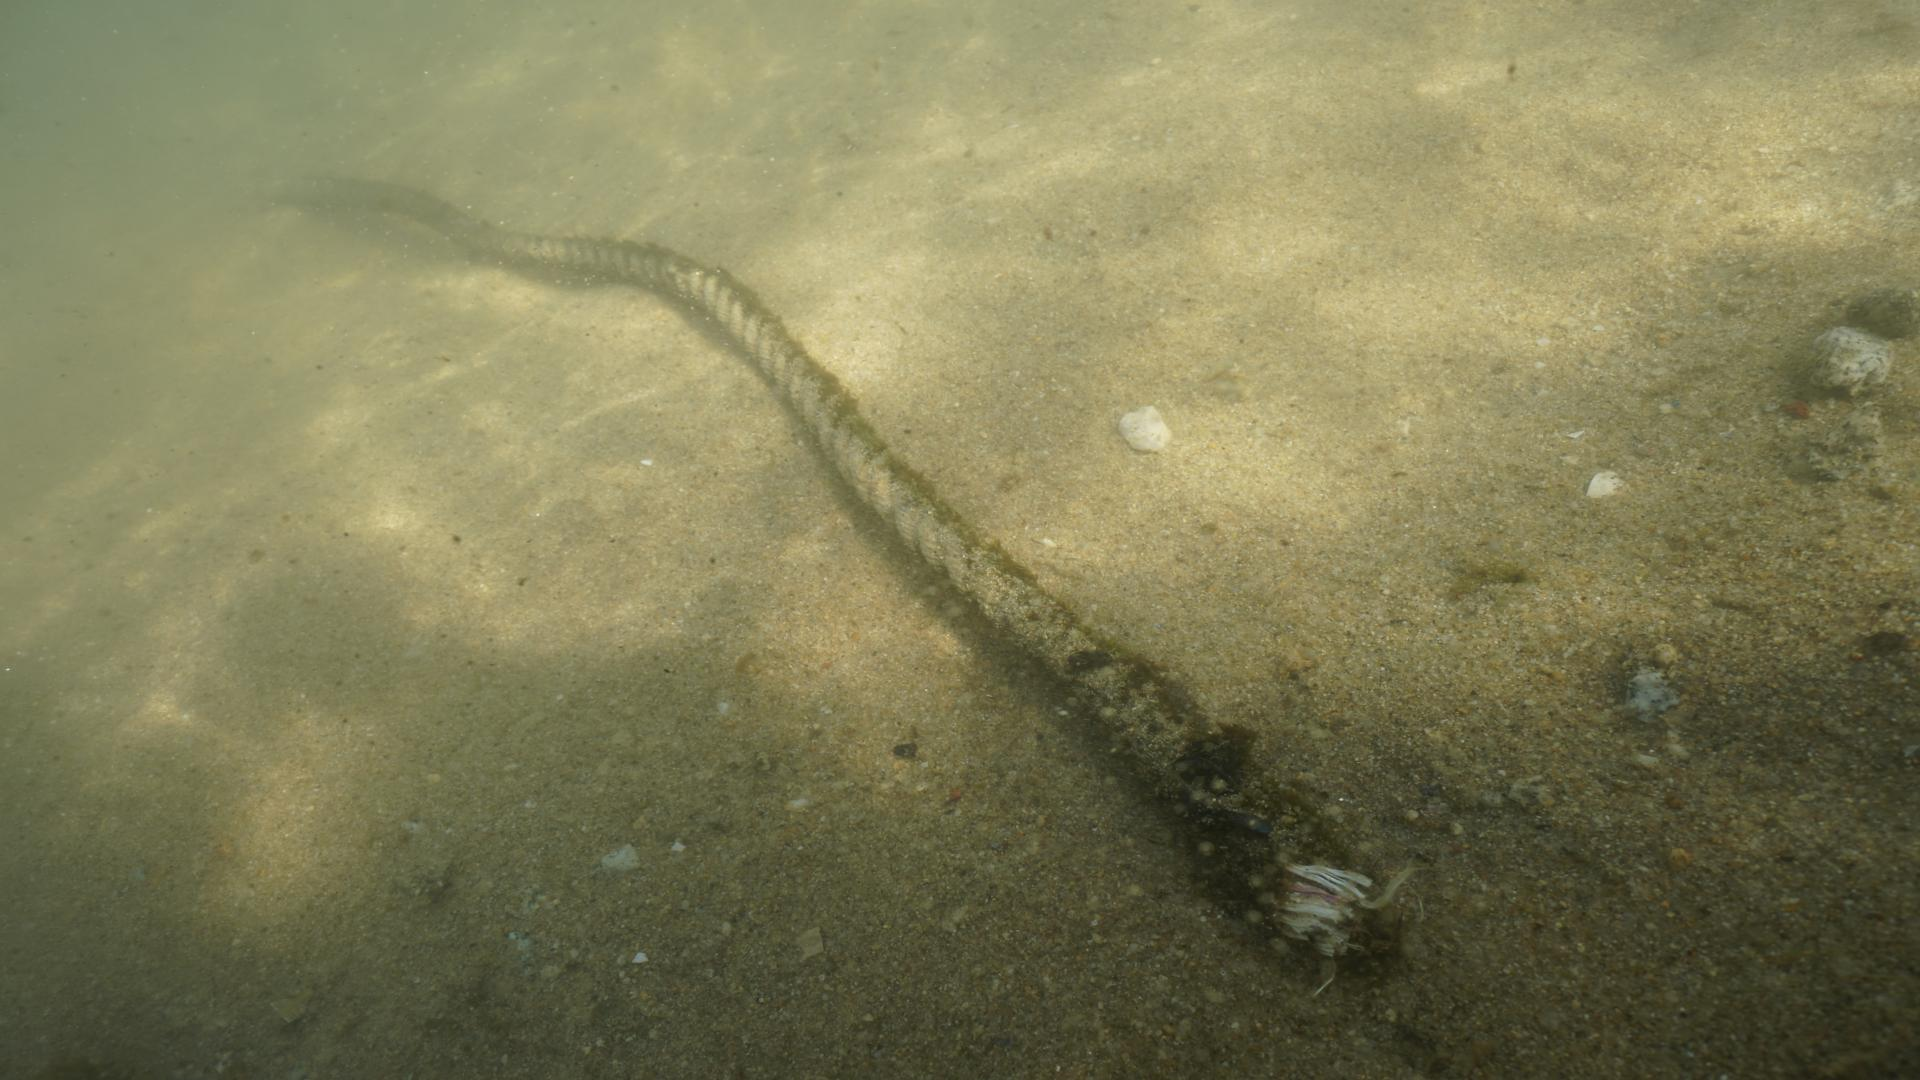rope: (285, 167, 1300, 884)
